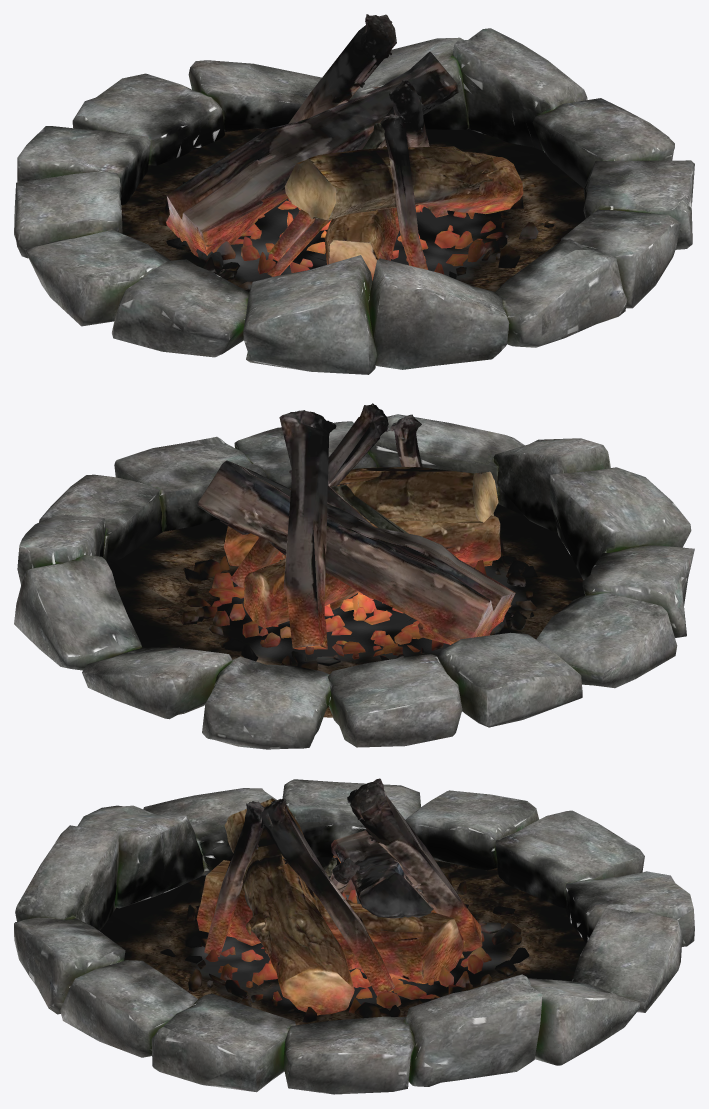
The model's file is campfire-0-near.glb.
3 views of the same model, one above another, from view 1: azimuth 30°, elevation 25°; view 2: azimuth 150°, elevation 25°; view 3: azimuth 270°, elevation 25° (orthographic). The views are drawn at different scales.
Parts seen in each view (by area): view 1: Stones_Stones_0, Logs_Logs_0, Ground_Ground_0, Ground Pieces_Ground Pieces_0; view 2: Stones_Stones_0, Logs_Logs_0, Ground_Ground_0, Ground Pieces_Ground Pieces_0; view 3: Stones_Stones_0, Logs_Logs_0, Ground_Ground_0, Ground Pieces_Ground Pieces_0.
Part boxes in pixels (x1,y1,x2,y2): Stones_Stones_0: (14,28,694,374); Logs_Logs_0: (166,14,523,280); Ground_Ground_0: (121,128,585,291); Ground Pieces_Ground Pieces_0: (157,146,554,289); Stones_Stones_0: (14,414,694,749); Logs_Logs_0: (197,403,515,649); Ground_Ground_0: (108,504,584,717); Ground Pieces_Ground Pieces_0: (180,537,537,670); Stones_Stones_0: (14,779,694,1094); Logs_Logs_0: (196,778,482,1015); Ground_Ground_0: (100,857,585,1025); Ground Pieces_Ground Pieces_0: (160,862,529,1022).
Size of the model in its own units: 1.65 by 0.5454 by 1.69.
4 materials, 4 textured.
